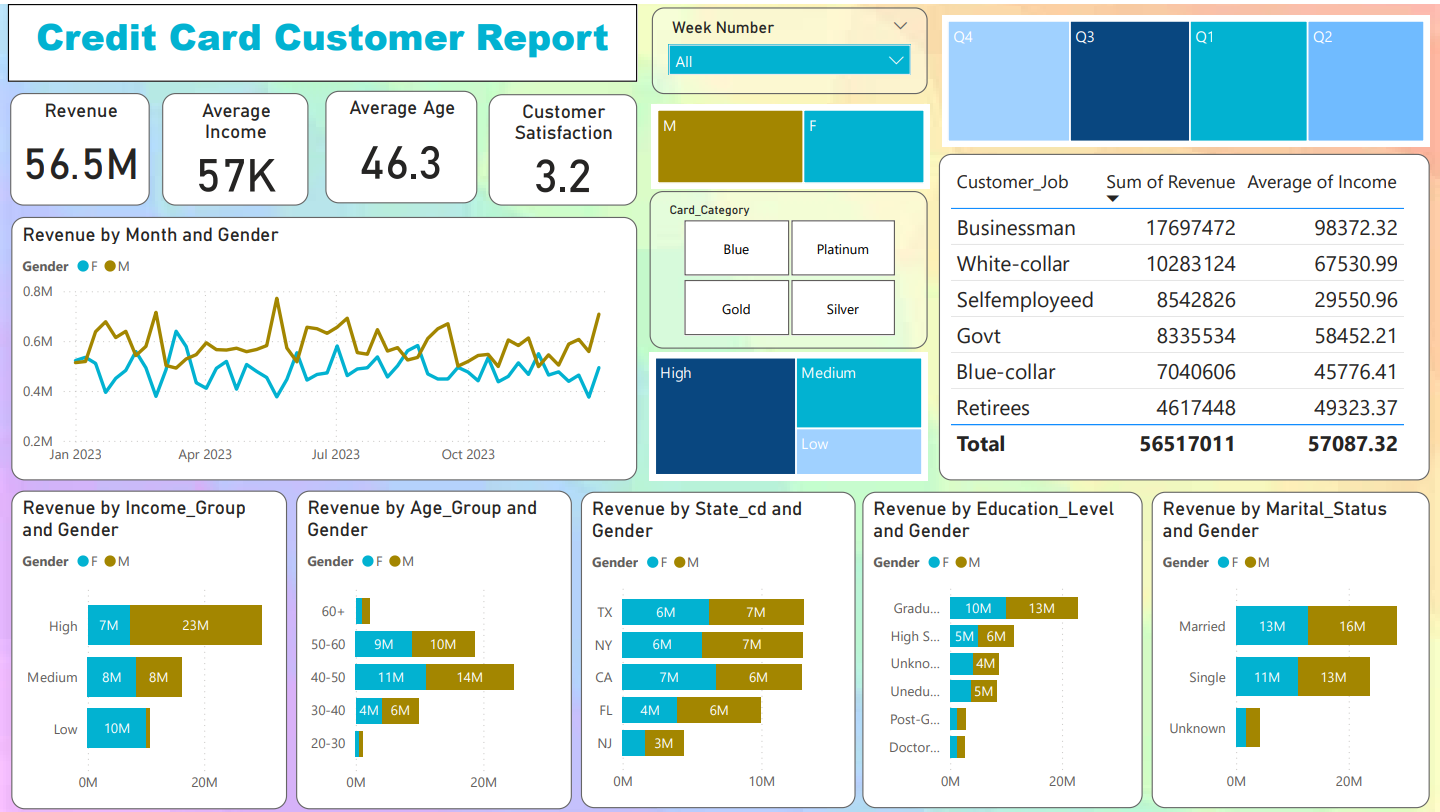

The page's visual inventory and layout, read from the dashboard file:
{"tool":"powerbi","page":{"name":"cust_detail","canvas":[1280,720],"ordinal":1},"visuals":[{"type":"textbox","box":[7.1,0,558.6,68.6],"z":0},{"type":"tableEx","fields":{"Values":["ccdb cust_detail.Customer_Job","Sum(ccdb cc_detail.Revenue)","Avg(ccdb cust_detail.Income)"]},"box":[834.3,132.9,435.7,290],"z":1000},{"type":"card","title":"Revenue","fields":{"Values":["Sum(ccdb cc_detail.Revenue)"]},"box":[8.6,78.6,124.3,100],"z":2000},{"type":"card","title":"Average Income","fields":{"Values":["Avg(ccdb cust_detail.Income)"]},"box":[144.3,78.6,130,100],"z":3000},{"type":"card","title":"Customer Satisfaction","fields":{"Values":["Avg(ccdb cust_detail.Cust_Satisfaction_Score)"]},"box":[434.3,80,131.4,98.6],"z":4000},{"type":"card","title":"Average Age","fields":{"Values":["Avg(ccdb cust_detail.Customer_Age)"]},"box":[288.6,77.1,135.7,100],"z":5000},{"type":"treemap","fields":{"Group":["ccdb cust_detail.Gender"],"Values":["Sum(ccdb cc_detail.Revenue)"]},"box":[578.6,88.6,247.1,75.7],"z":6000},{"type":"treemap","fields":{"Group":["ccdb cc_detail.Qtr"],"Values":["Sum(ccdb cc_detail.Revenue)"]},"box":[837.1,10,432.9,117.1],"z":7000},{"type":"slicer","fields":{"Values":["ccdb cc_detail.Card_Category"]},"box":[577.1,165.7,247.1,140],"z":8000},{"type":"treemap","fields":{"Group":["ccdb cust_detail.Income_Group"],"Values":["Sum(ccdb cc_detail.Revenue)"]},"box":[577.1,308.6,247.1,114.3],"z":9000},{"type":"lineChart","title":"Revenue by Month and Gender","fields":{"Y":["Sum(ccdb cc_detail.Revenue)"],"Category":["ccdb cc_detail.Month"],"Series":["ccdb cust_detail.Gender"]},"box":[10,188.6,555.7,234.3],"z":10000},{"type":"barChart","title":"Revenue by Income_Group and Gender","fields":{"Category":["ccdb cust_detail.Income_Group"],"Y":["Sum(ccdb cc_detail.Revenue)"],"Series":["ccdb cust_detail.Gender"]},"box":[9.6,432.2,245.6,282.7],"z":11000},{"type":"barChart","title":"Revenue by Age_Group and Gender","fields":{"Category":["ccdb cust_detail.Age_Group"],"Y":["Sum(ccdb cc_detail.Revenue)"],"Series":["ccdb cust_detail.Gender"]},"box":[262.6,432.3,245.6,282.6],"z":12000},{"type":"barChart","title":"Revenue by Education_Level and Gender","fields":{"Category":["ccdb cust_detail.Education_Level"],"Y":["Sum(ccdb cc_detail.Revenue)"],"Series":["ccdb cust_detail.Gender"]},"box":[766.2,432.5,248.8,281.2],"z":13000},{"type":"barChart","title":"Revenue by State_cd and Gender","fields":{"Category":["ccdb cust_detail.State_cd"],"Y":["Sum(ccdb cc_detail.Revenue)"],"Series":["ccdb cust_detail.Gender"]},"box":[515.7,432.9,244.3,281.4],"z":14000},{"type":"barChart","title":"Revenue by Marital_Status and Gender","fields":{"Category":["ccdb cust_detail.Marital_Status"],"Y":["Sum(ccdb cc_detail.Revenue)"],"Series":["ccdb cust_detail.Gender"]},"box":[1022.7,432.7,247.3,280.9],"z":15000},{"type":"slicer","fields":{"Values":["ccdb cc_detail.Week_Num2"]},"box":[578.6,2.9,245.7,77.1],"z":16000}]}

Visuals, with their boxes in screenshot pixels (x1, y1, x2, y2), scaled from the page's 1280x720 canvas onto the 1440x812 screenshot:
textbox: x1=8 y1=0 x2=636 y2=77
tableEx - ccdb cust_detail.Customer_Job x Sum(ccdb cc_detail.Revenue): x1=939 y1=150 x2=1429 y2=477
"Revenue" card: x1=10 y1=89 x2=150 y2=201
"Average Income" card: x1=162 y1=89 x2=309 y2=201
"Customer Satisfaction" card: x1=489 y1=90 x2=636 y2=201
"Average Age" card: x1=325 y1=87 x2=477 y2=200
treemap - ccdb cust_detail.Gender x Sum(ccdb cc_detail.Revenue): x1=651 y1=100 x2=929 y2=185
treemap - ccdb cc_detail.Qtr x Sum(ccdb cc_detail.Revenue): x1=942 y1=11 x2=1429 y2=143
slicer - ccdb cc_detail.Card_Category: x1=649 y1=187 x2=927 y2=345
treemap - ccdb cust_detail.Income_Group x Sum(ccdb cc_detail.Revenue): x1=649 y1=348 x2=927 y2=477
"Revenue by Month and Gender" lineChart: x1=11 y1=213 x2=636 y2=477
"Revenue by Income_Group and Gender" barChart: x1=11 y1=487 x2=287 y2=806
"Revenue by Age_Group and Gender" barChart: x1=295 y1=488 x2=572 y2=806
"Revenue by Education_Level and Gender" barChart: x1=862 y1=488 x2=1142 y2=805
"Revenue by State_cd and Gender" barChart: x1=580 y1=488 x2=855 y2=806
"Revenue by Marital_Status and Gender" barChart: x1=1151 y1=488 x2=1429 y2=805
slicer - ccdb cc_detail.Week_Num2: x1=651 y1=3 x2=927 y2=90
